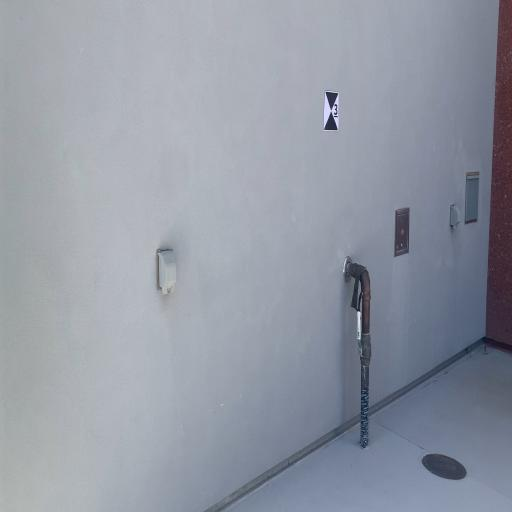target3: (324, 88, 339, 130)
